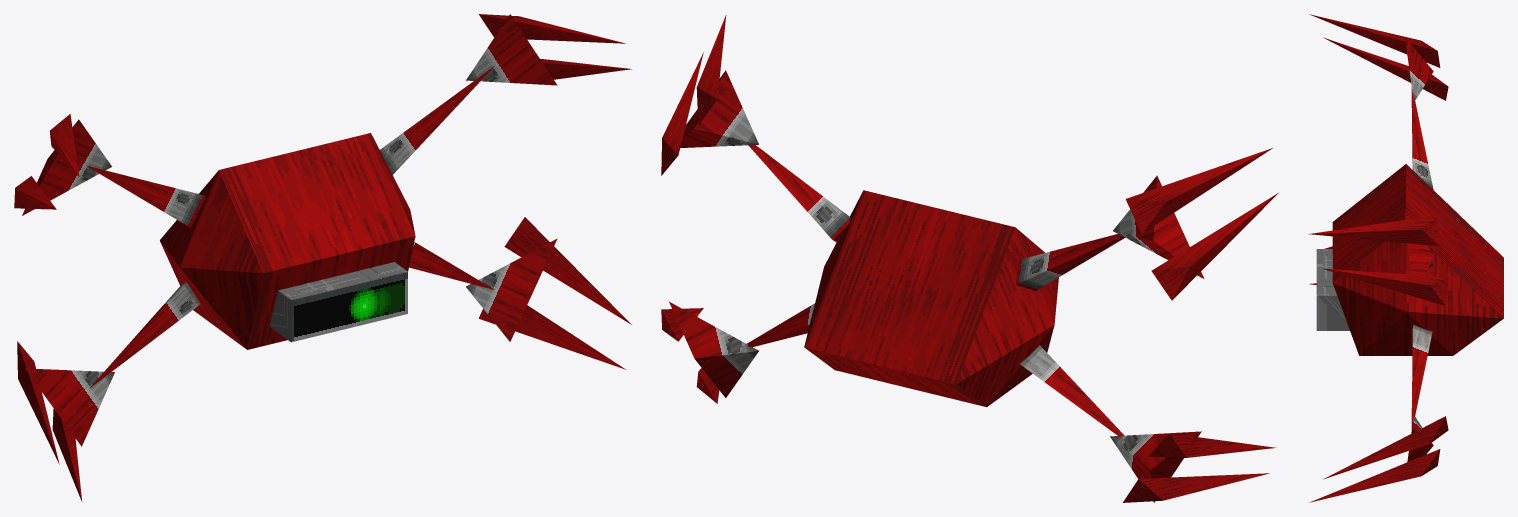
File: Advanced_Lifter.obj
3 renders of one model, left to right at view 1: azimuth 30°, elevation 25°; view 2: azimuth 150°, elevation 25°; view 3: azimuth 270°, elevation 25°, orthographic. The views are drawn at different scales.
Visible parts, largest first — view 1: Advanced_Lifter; view 2: Advanced_Lifter; view 3: Advanced_Lifter.
Boxes of the visible parts, x1,y1,x2,y2 form: Advanced_Lifter: [14, 14, 631, 502]; Advanced_Lifter: [661, 15, 1278, 502]; Advanced_Lifter: [1308, 14, 1503, 502].
Bounding box in the file's own units: 9 × 4.9 × 3.21.
4 materials, 4 textured.
